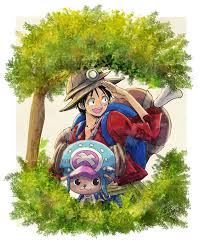chopper: (52, 140, 128, 197)
luffy: (60, 68, 125, 117)
